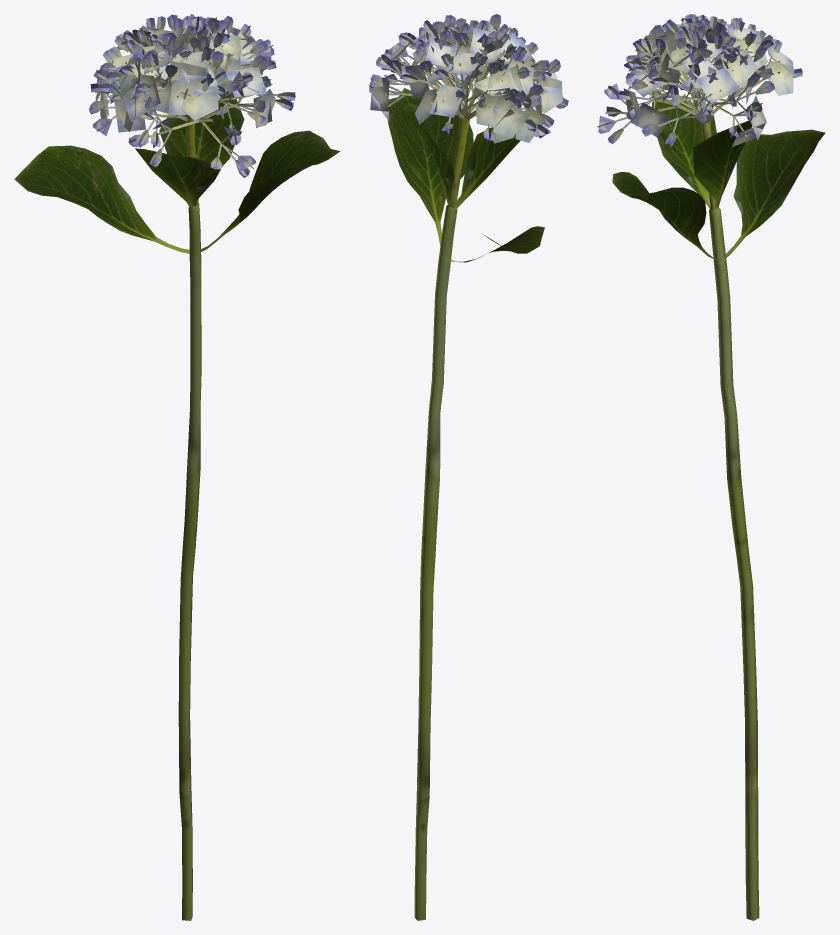
Rendered from Hydrangea_baby_long_purple.glb.
3 renders of one model, left to right at view 1: azimuth 30°, elevation 25°; view 2: azimuth 150°, elevation 25°; view 3: azimuth 270°, elevation 25°, orthographic. The views are drawn at different scales.
Parts seen in each view (by area): view 1: BABY; view 2: BABY; view 3: BABY.
Part boxes in pixels (x1,y1,x2,y2): BABY: [14, 14, 340, 920]; BABY: [369, 14, 568, 920]; BABY: [597, 14, 825, 920].
Bounding box in the file's own units: 0.7928 × 3.08 × 0.7195.
Materials: 1 (1 with a texture image).
